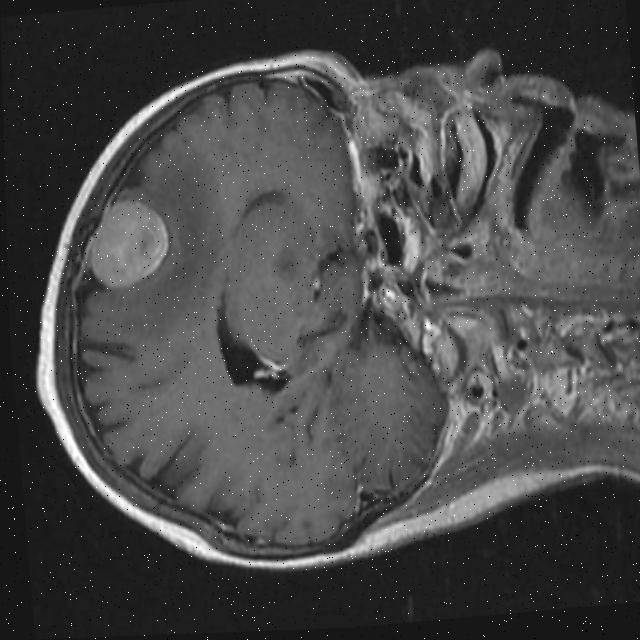Meningioma: (81, 193, 175, 294)
